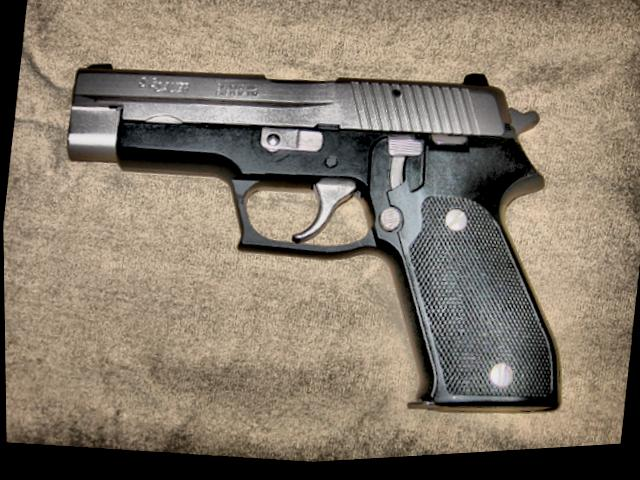pistol: (34, 22, 598, 445)
